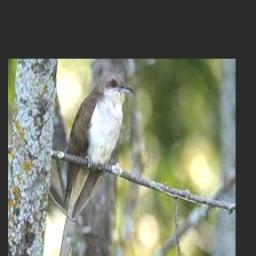Cuckoo: (56, 72, 136, 256)
